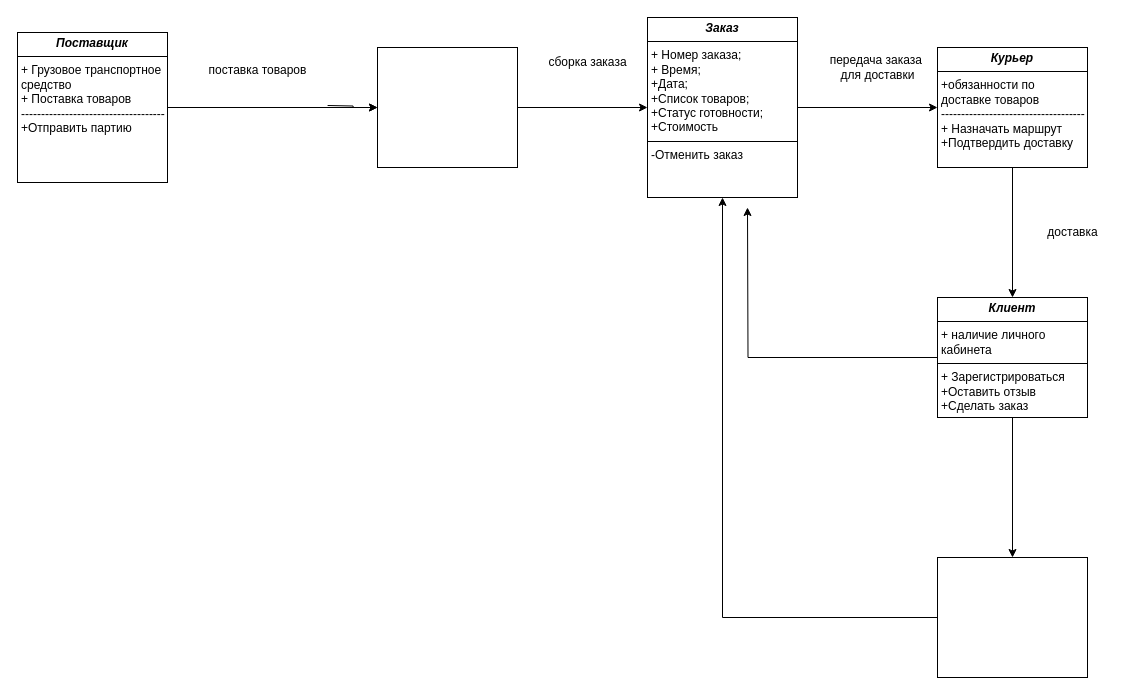
This 1125x695 diagram has some shape labels left out. Each missing label, with the centre of its shape:
"Персональные данные + ФИО; + Адрес; + Номер телефона +Запросить изменения" goes at [1012,617].
"Склад + Вместимость +Инвентаризация +Прием товара -Списание товара" goes at [447,107].
